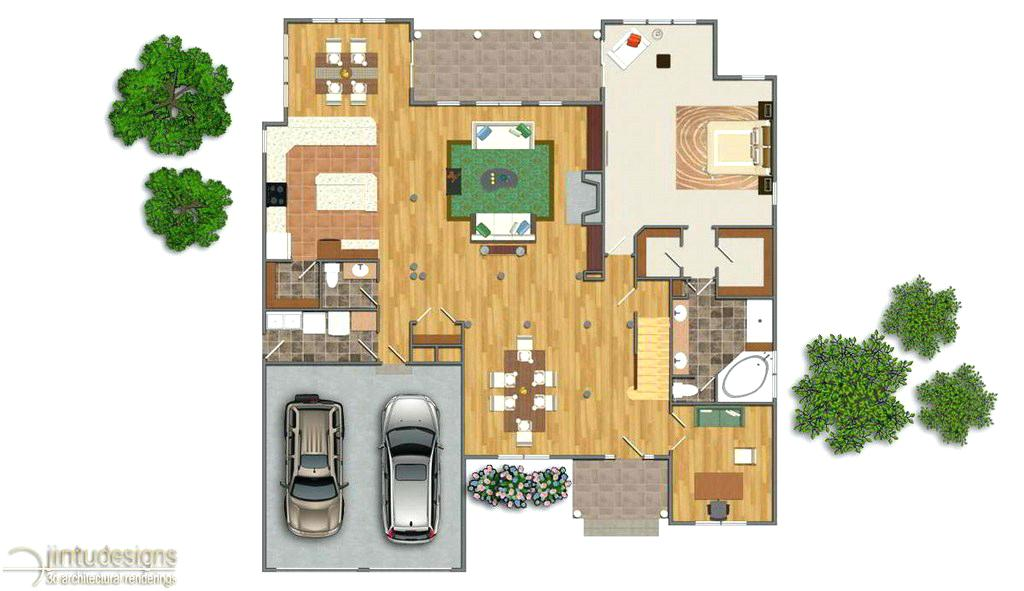room: (376, 100, 603, 282), (599, 75, 778, 227), (667, 401, 776, 525)
